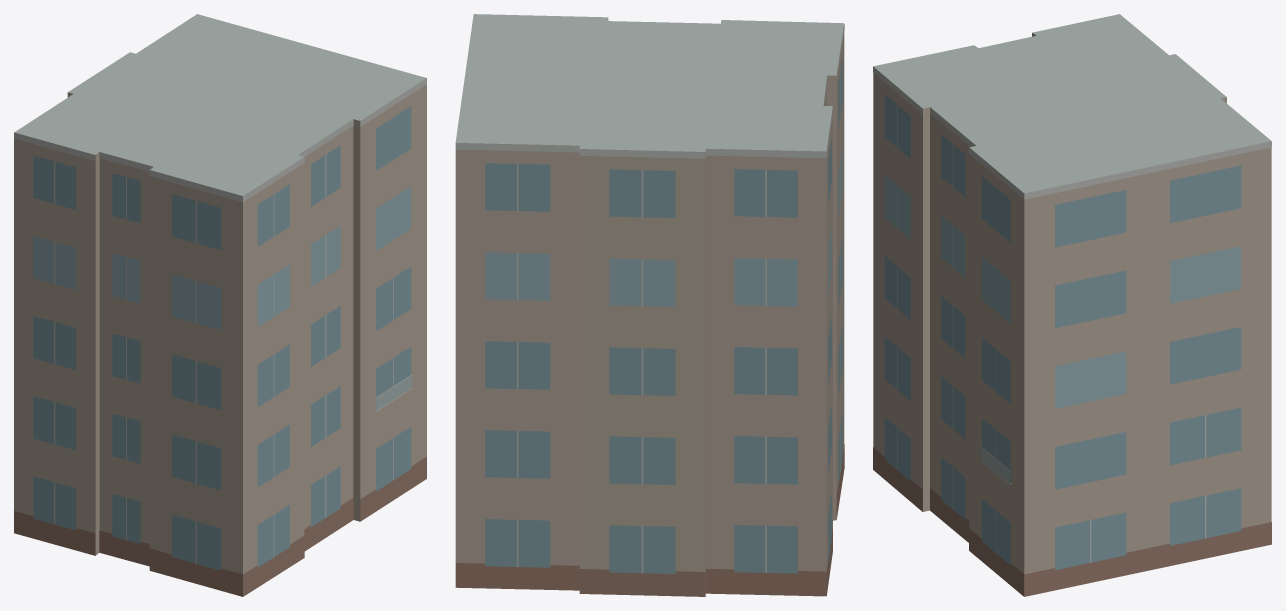
Rendered from survey-upis-32837297.glb.
The picture shows the model from 3 angles, left to right: view 1: azimuth 30°, elevation 25°; view 2: azimuth 150°, elevation 25°; view 3: azimuth 270°, elevation 25°; orthographic projection. The views are drawn at different scales.
Visible parts, largest first — view 1: survey-upis-32837297.tmp; view 2: survey-upis-32837297.tmp; view 3: survey-upis-32837297.tmp.
Boxes of the visible parts, x1,y1,x2,y2 form: survey-upis-32837297.tmp: (14, 14, 426, 596); survey-upis-32837297.tmp: (455, 14, 844, 596); survey-upis-32837297.tmp: (873, 14, 1271, 596).
Bounding box in the file's own units: 15.08 × 15.8 × 14.16.
